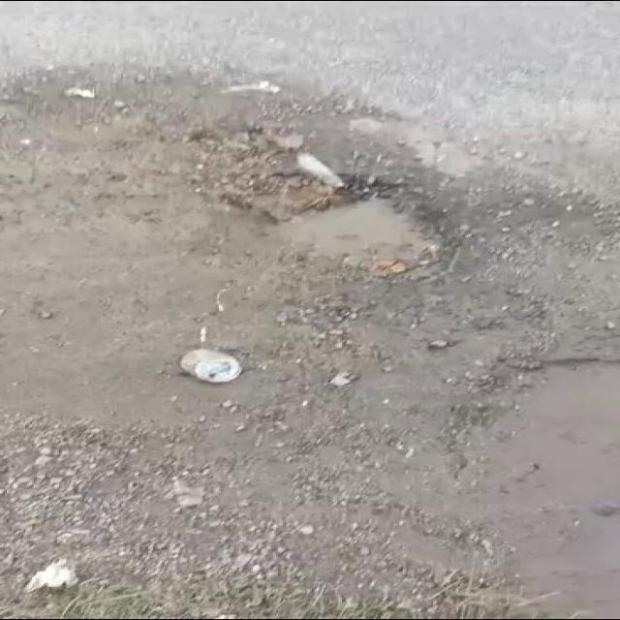lubang: (453, 334, 620, 618)
